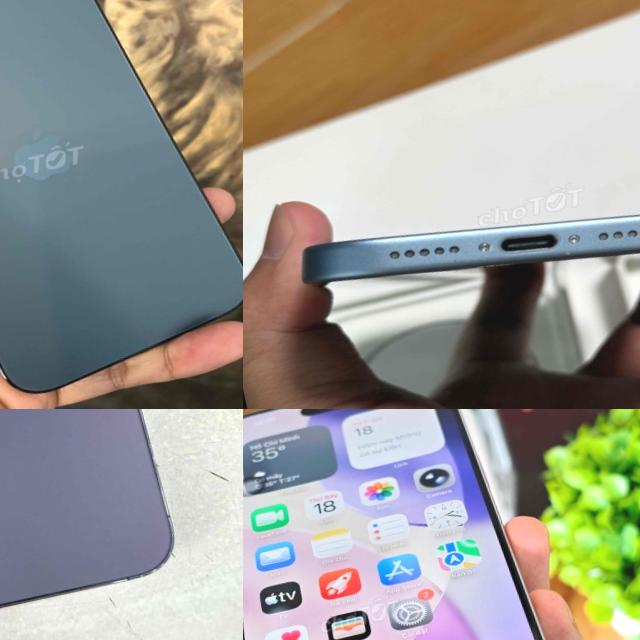gen_12_13: (0, 0, 243, 409)
gen_14: (0, 409, 195, 640)
gen_15: (243, 409, 582, 640)
gen_17: (280, 129, 640, 349)
